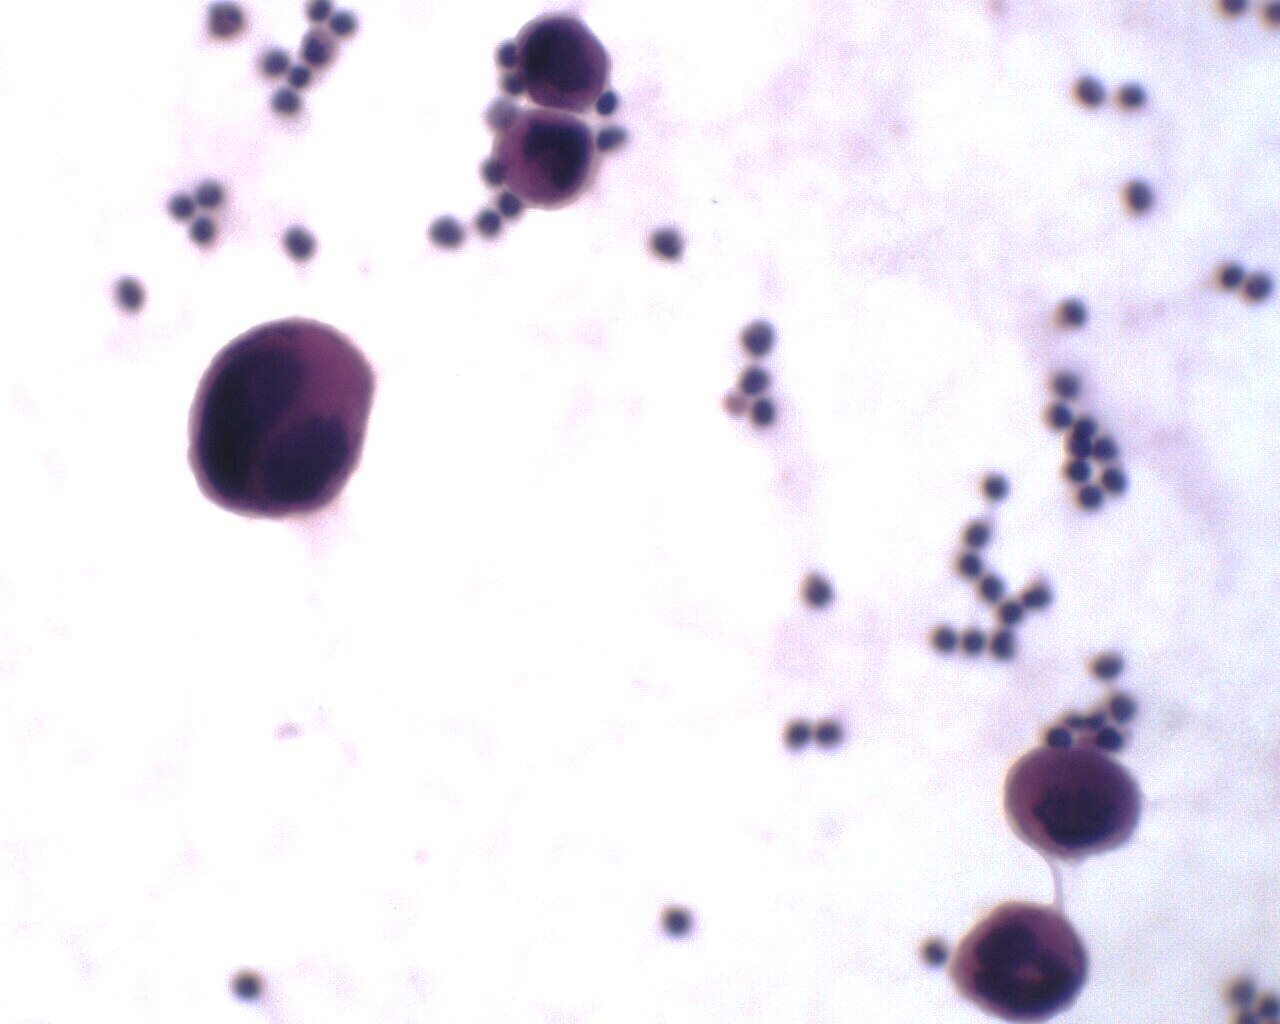ab: (188, 316, 385, 523), (997, 745, 1151, 868), (949, 894, 1093, 1024), (493, 111, 605, 214), (514, 11, 615, 111)
lymph: (657, 897, 703, 942), (649, 220, 691, 271), (795, 568, 840, 612), (281, 222, 324, 261), (1072, 478, 1108, 518), (978, 466, 1016, 504), (927, 621, 960, 659)
